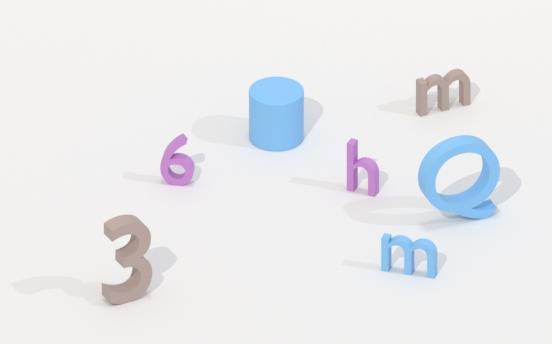3: (94, 214, 161, 304)
6: (156, 131, 200, 189)
h: (344, 134, 387, 199)
m: (410, 66, 477, 120)
q: (416, 133, 505, 221)
tron: (375, 229, 442, 283)
tru: (245, 75, 307, 156)
